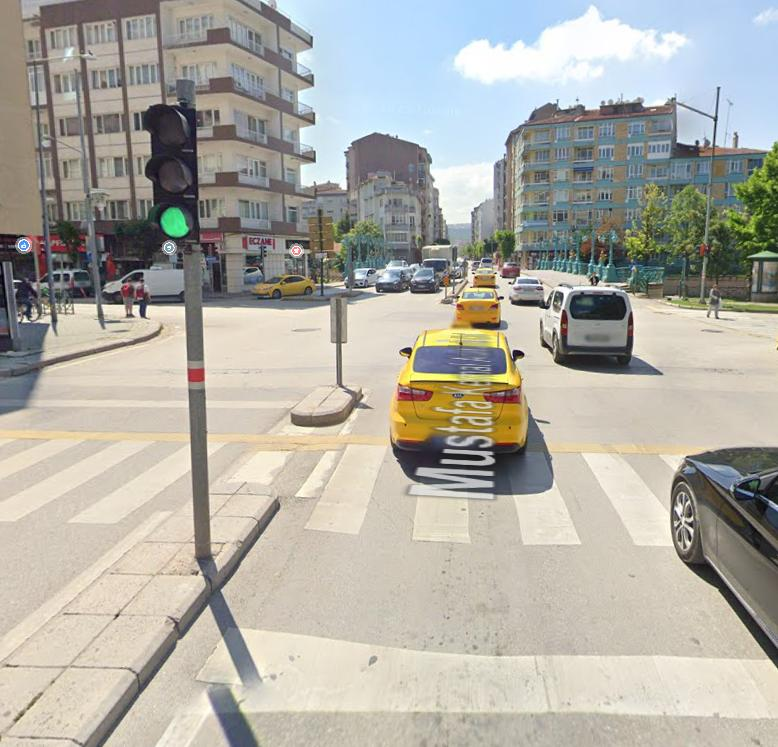greenlight: (143, 101, 206, 239)
